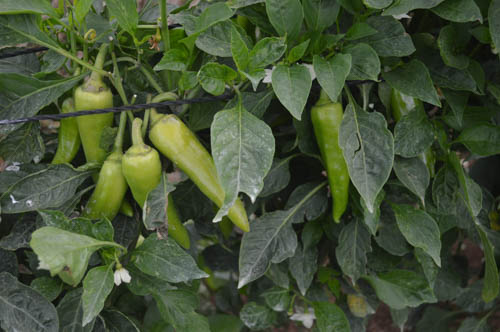ChiliPepper: (150, 114, 254, 231), (127, 151, 192, 247), (310, 106, 354, 224), (390, 89, 437, 171), (77, 161, 129, 231), (75, 90, 115, 176), (48, 103, 80, 166)
